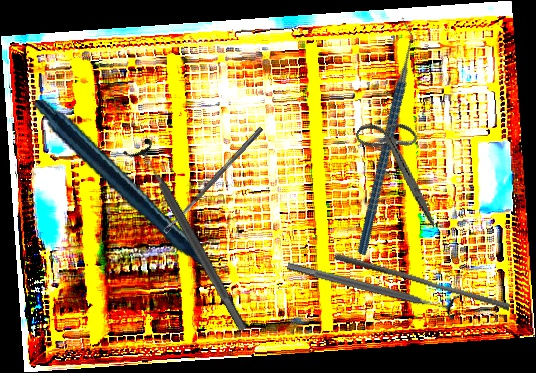Chopper: (284, 16, 483, 257)
Fixation Ring: (121, 135, 259, 339), (284, 252, 460, 322)
Handpiece: (32, 75, 227, 325)
Iris Scissors: (334, 106, 470, 228)
Pusher: (332, 253, 512, 311)
Surgical Spoon: (162, 126, 264, 234)
